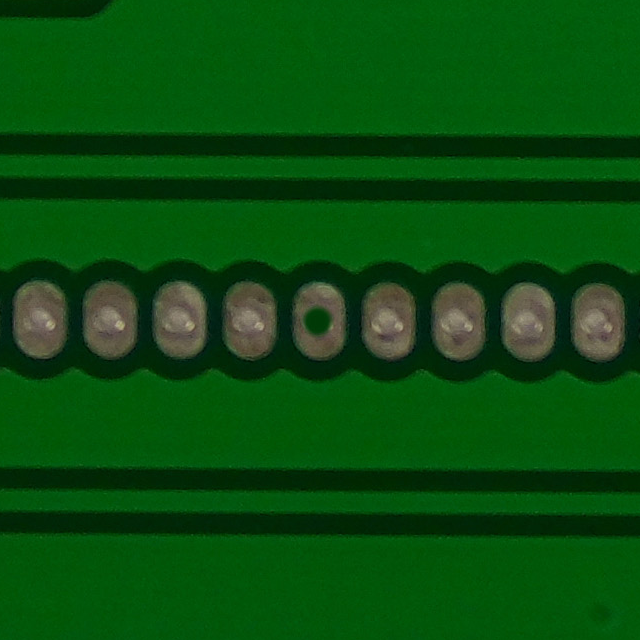missing_hole: (279, 275, 362, 365)
